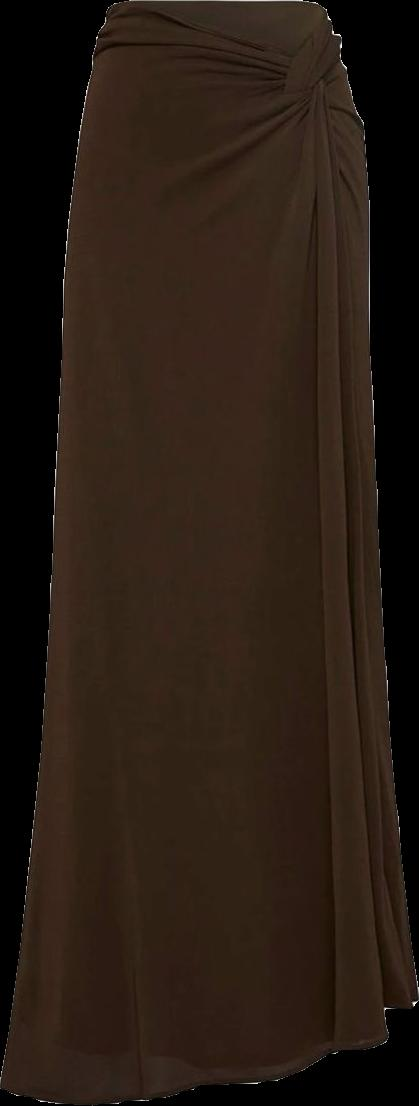Hemline: (0, 997, 418, 1105)
Waistline: (101, 0, 333, 64)
